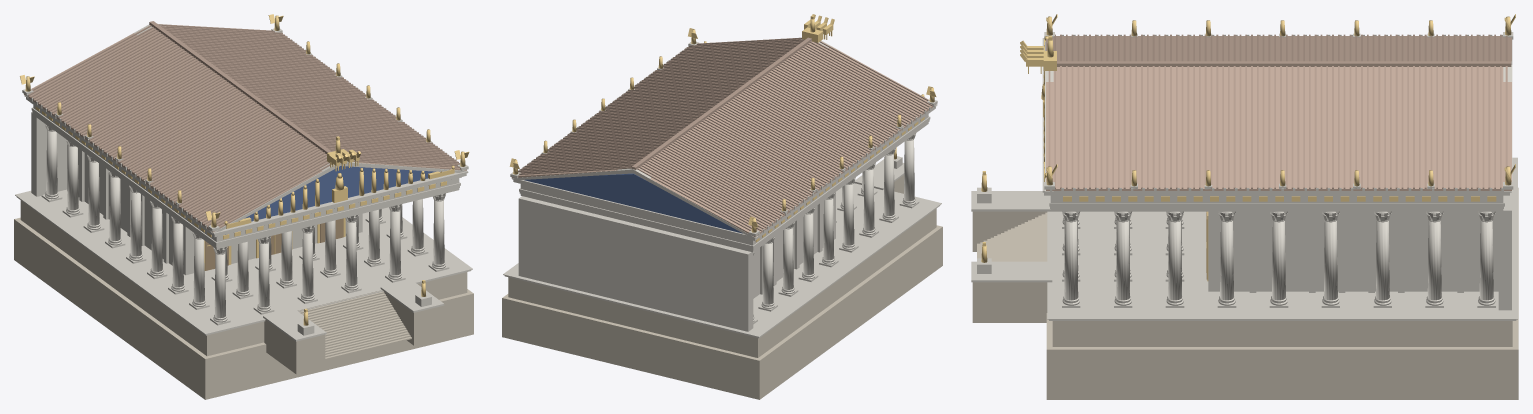
Rendered from jupiter.glb.
The picture shows the model from 3 angles, left to right: view 1: azimuth 30°, elevation 25°; view 2: azimuth 150°, elevation 25°; view 3: azimuth 270°, elevation 25°; orthographic projection. The views are drawn at different scales.
Parts seen in each view (by area): view 1: marble, tile2, stone, tile, gold, tympanum, bronze; view 2: marble, tile2, stone, tile, tympanum, gold; view 3: marble, tile, stone, tile2, gold.
Boxes of the visible parts, x1,y1,x2,y2 form: marble: (15, 23, 472, 341); tile2: (28, 21, 460, 226); stone: (14, 200, 473, 399); tile: (24, 24, 466, 232); gold: (20, 14, 469, 325); tympanum: (244, 166, 435, 221); bronze: (205, 218, 343, 270); marble: (503, 39, 941, 338); tile2: (518, 37, 932, 231); stone: (502, 175, 942, 399); tile: (511, 41, 935, 237); tympanum: (524, 173, 742, 233); gold: (509, 14, 936, 242); marble: (971, 32, 1517, 320); tile: (1046, 36, 1511, 190); stone: (972, 187, 1518, 399); tile2: (1048, 34, 1511, 188); gold: (981, 14, 1515, 281).
Bounding box in the file's own units: 51.6 × 42.02 × 73.75.
